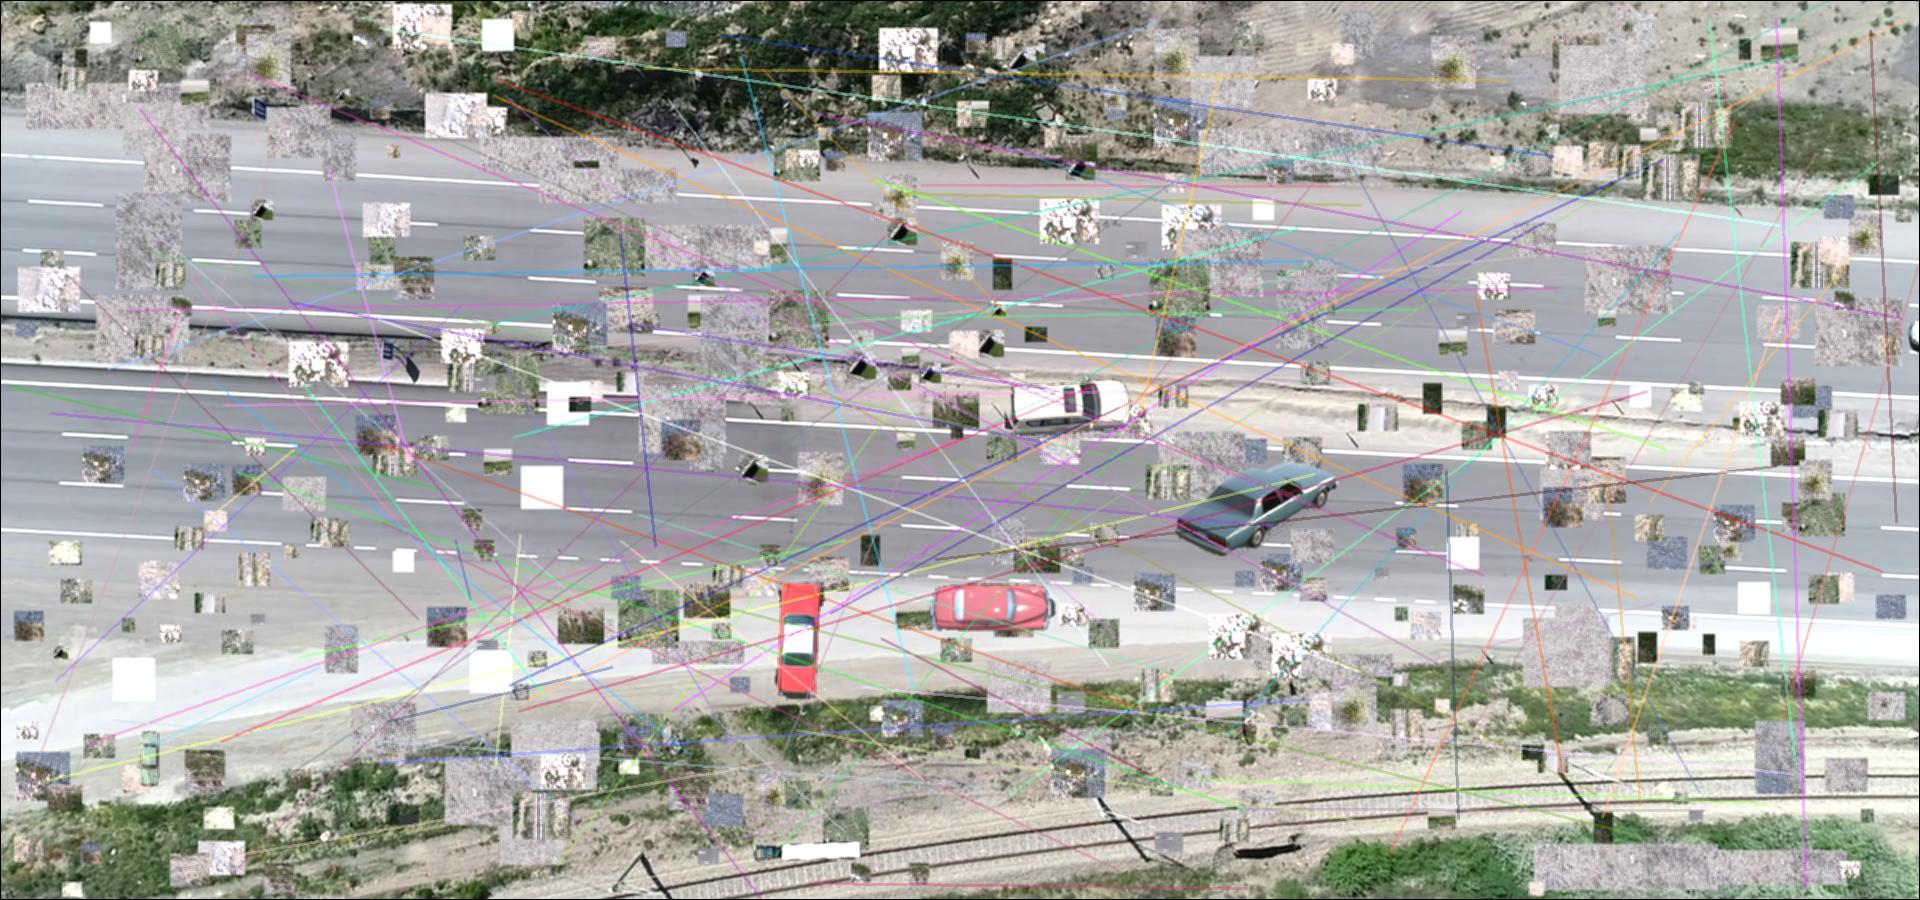arac: (1167, 459, 1340, 556), (1009, 376, 1134, 438), (931, 580, 1056, 636), (774, 582, 825, 700), (753, 841, 863, 862), (138, 730, 160, 787)
